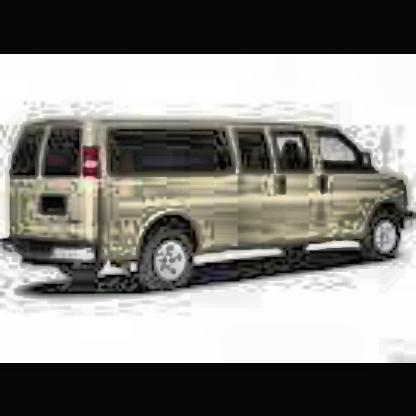GMC Savana Van 2012: (6, 120, 416, 295)
